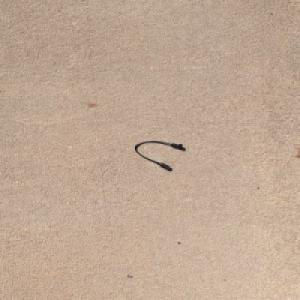Wire: (134, 139, 183, 169)
